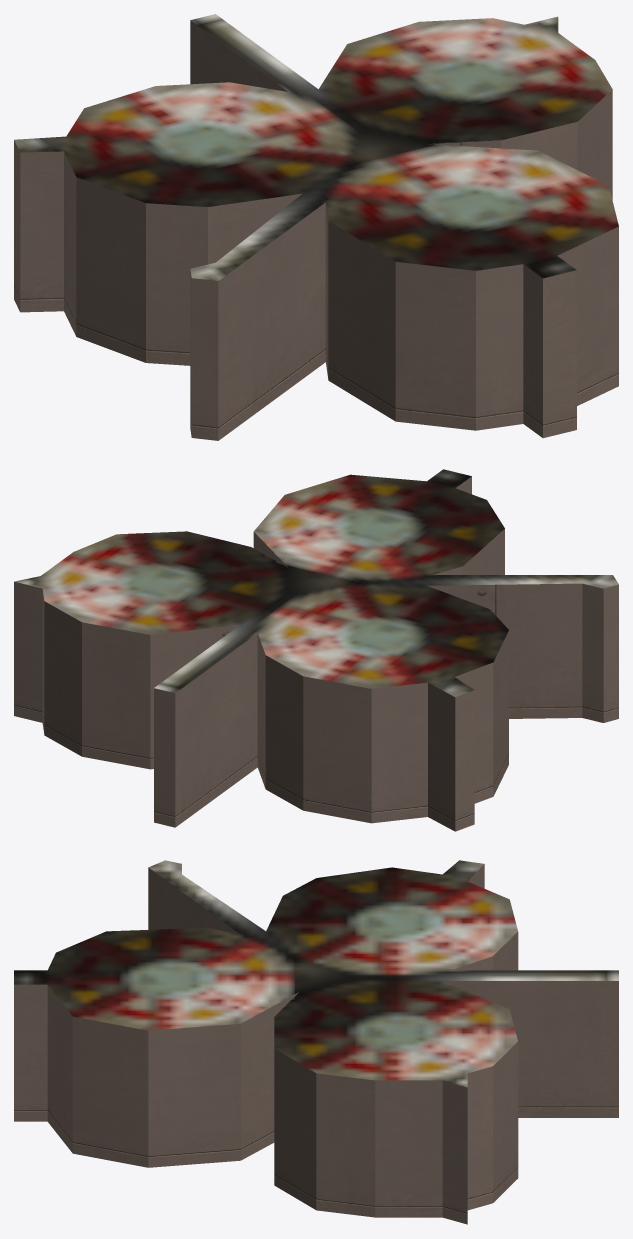
Rendered from fuel_tank_hard_59.glb.
The picture shows the model from 3 angles, top to bottom: view 1: azimuth 30°, elevation 25°; view 2: azimuth 150°, elevation 25°; view 3: azimuth 270°, elevation 25°; orthographic projection. The views are drawn at different scales.
Parts seen in each view (by area): view 1: buildings/saxarba/fuel_tanks/fuel_tank_hard_59; view 2: buildings/saxarba/fuel_tanks/fuel_tank_hard_59; view 3: buildings/saxarba/fuel_tanks/fuel_tank_hard_59.
Part boxes in pixels (<box>): buildings/saxarba/fuel_tanks/fuel_tank_hard_59: <box>14,14,618,440</box>; buildings/saxarba/fuel_tanks/fuel_tank_hard_59: <box>14,469,618,831</box>; buildings/saxarba/fuel_tanks/fuel_tank_hard_59: <box>14,860,618,1224</box>.
Bounding box in the file's own units: 64 × 18 × 72.
